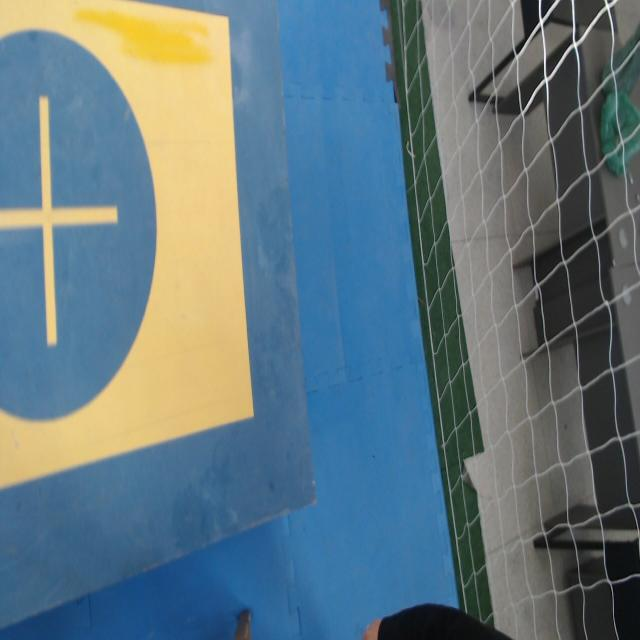base_inicio: (0, 0, 254, 489)
